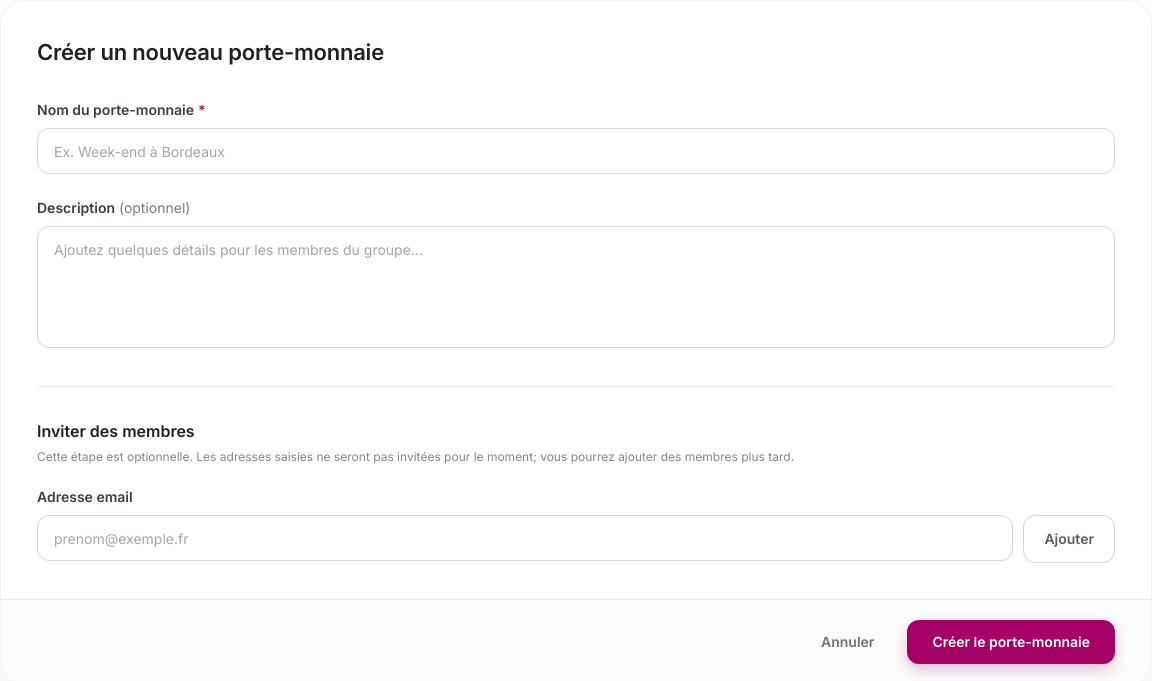
it: création d’un porte-monnaie › affiche une erreur serveur sans perdre la saisie
The image size is (1152, 681).
Type "Voyage" into the field labelled "Nom du porte-monnaie*" at (576, 151), box [37, 128, 1115, 174]
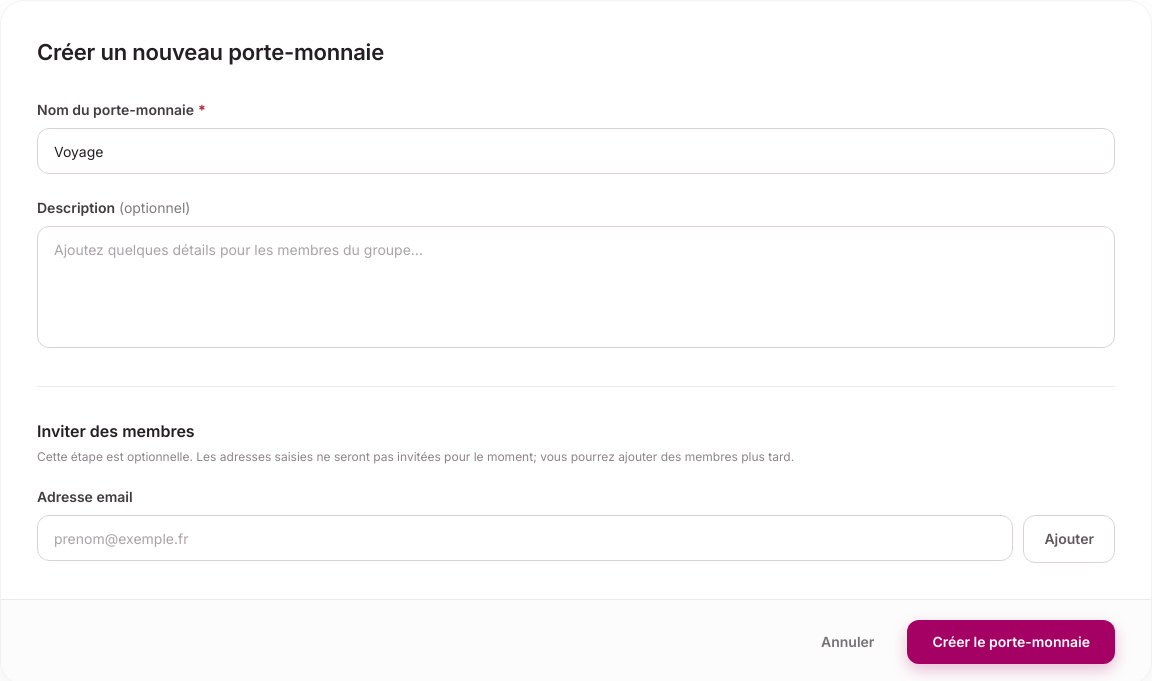
Click the button "Créer le porte-monnaie" at (1011, 642), box [907, 620, 1115, 664]
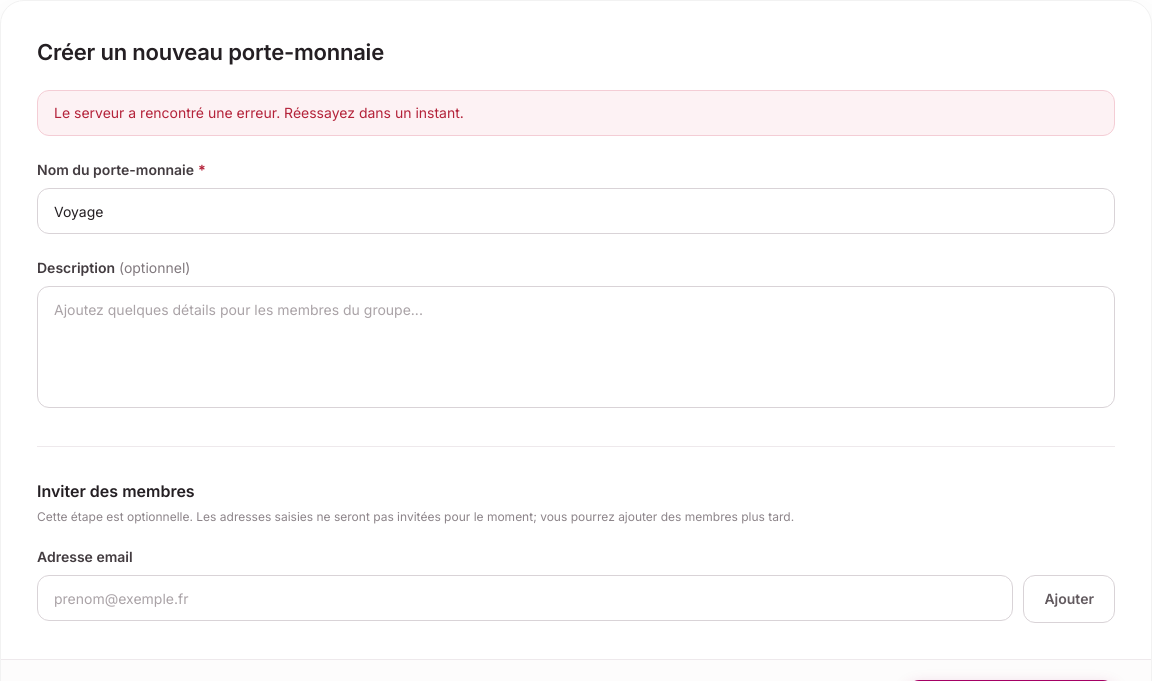
Result: the message shows "Le serveur" at [54, 104, 464, 121]
